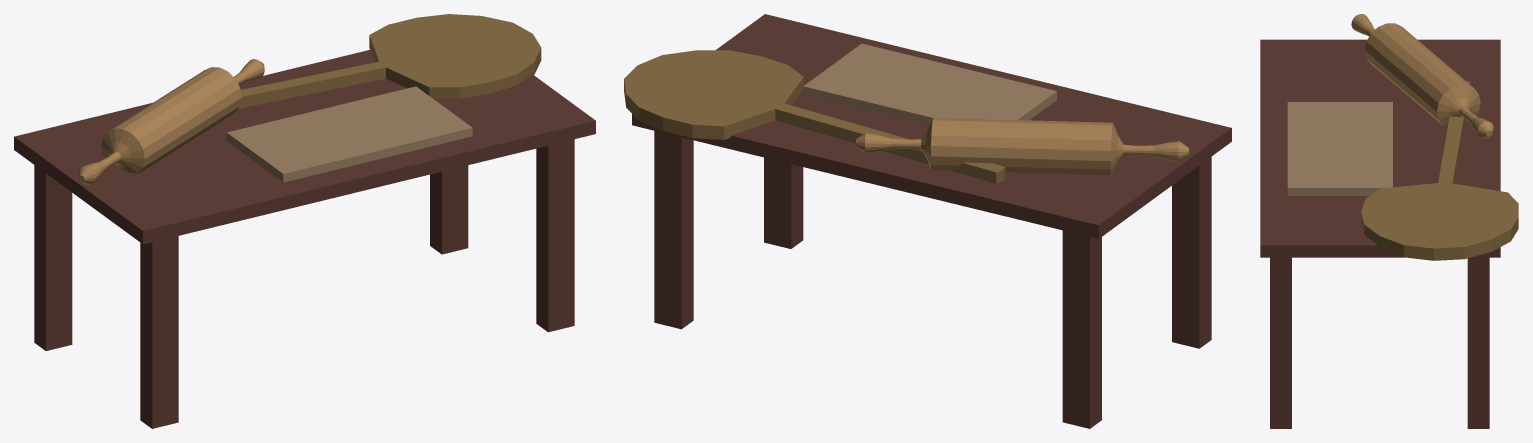
File: PizzaBaseSpawner.fbx
3 renders of one model, left to right at view 1: azimuth 30°, elevation 25°; view 2: azimuth 150°, elevation 25°; view 3: azimuth 270°, elevation 25°, orthographic. The views are drawn at different scales.
Parts seen in each view (by area): view 1: RestaurantTable.003, PizzaPaddle, Cube, RollingPin; view 2: RestaurantTable.003, PizzaPaddle, Cube, RollingPin; view 3: RestaurantTable.003, PizzaPaddle, Cube, RollingPin.
Boxes of the visible parts, <box> form: RestaurantTable.003: <box>14,49,595,428</box>; PizzaPaddle: <box>238,14,541,108</box>; Cube: <box>226,86,472,182</box>; RollingPin: <box>78,59,264,184</box>; RestaurantTable.003: <box>632,14,1231,428</box>; PizzaPaddle: <box>624,50,1005,183</box>; Cube: <box>803,43,1056,125</box>; RollingPin: <box>856,117,1189,175</box>; RestaurantTable.003: <box>1260,39,1500,428</box>; PizzaPaddle: <box>1361,81,1518,260</box>; Cube: <box>1287,102,1392,195</box>; RollingPin: <box>1351,14,1493,138</box>.
Bounding box in the file's own units: 522 × 248 × 254.
